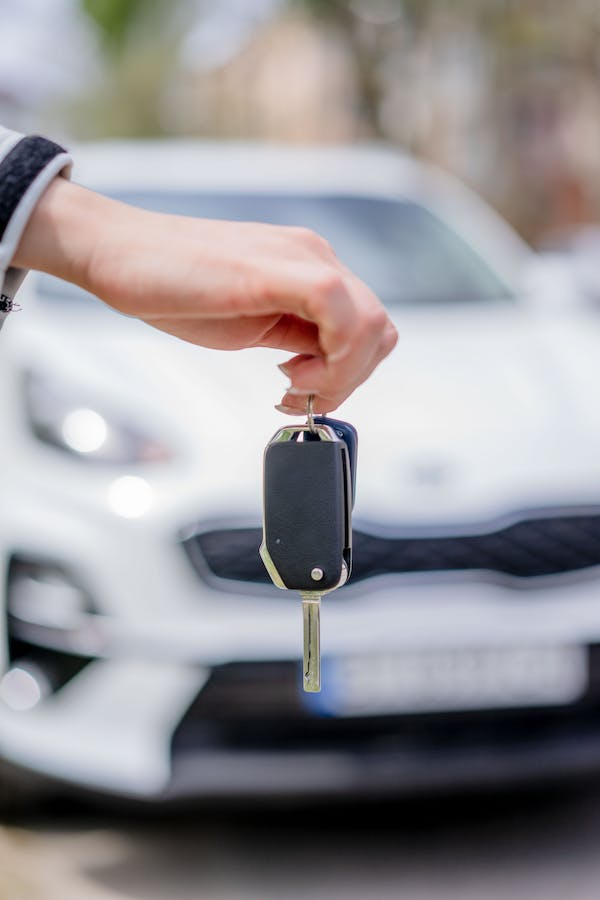key: (263, 424, 356, 696)
